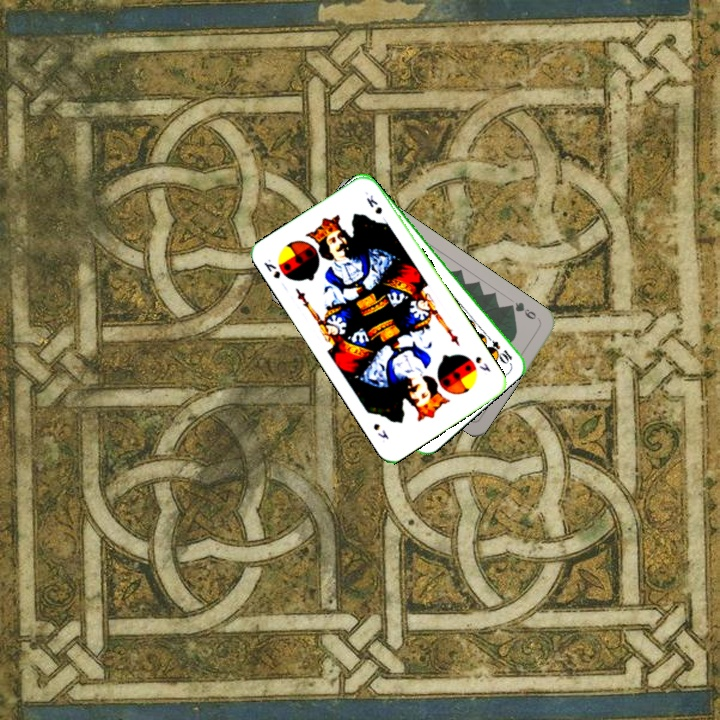E10: (482, 331, 515, 365)
G9: (504, 298, 543, 324)
SK: (260, 255, 283, 281), (471, 352, 494, 374)
